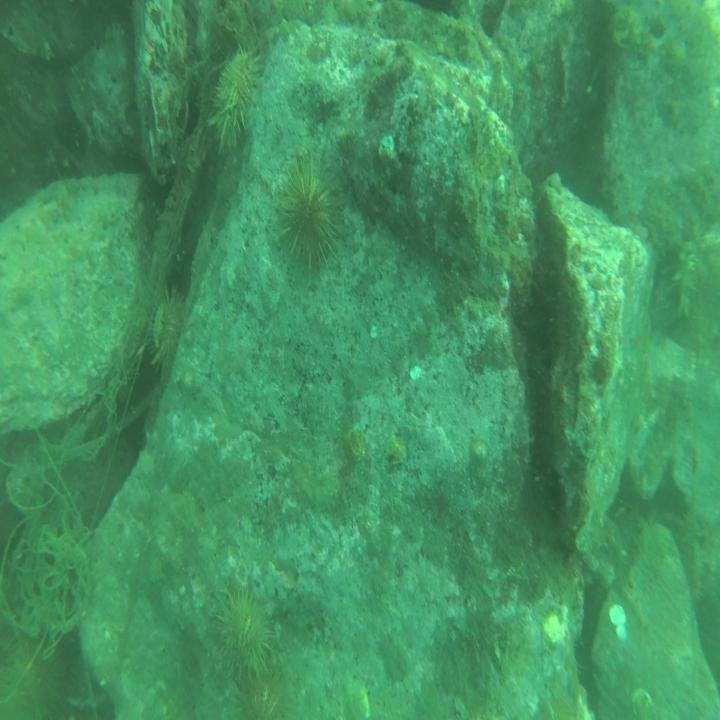echinus: (272, 159, 344, 276), (210, 582, 279, 689), (209, 41, 264, 163), (236, 684, 283, 720)
